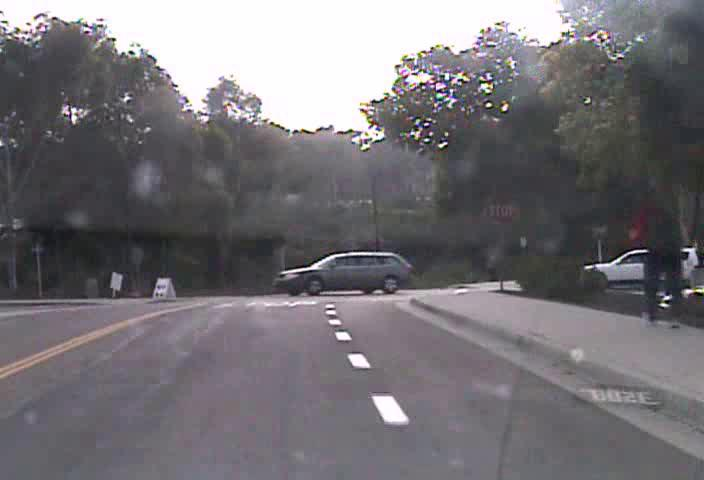stop: (483, 193, 521, 226)
